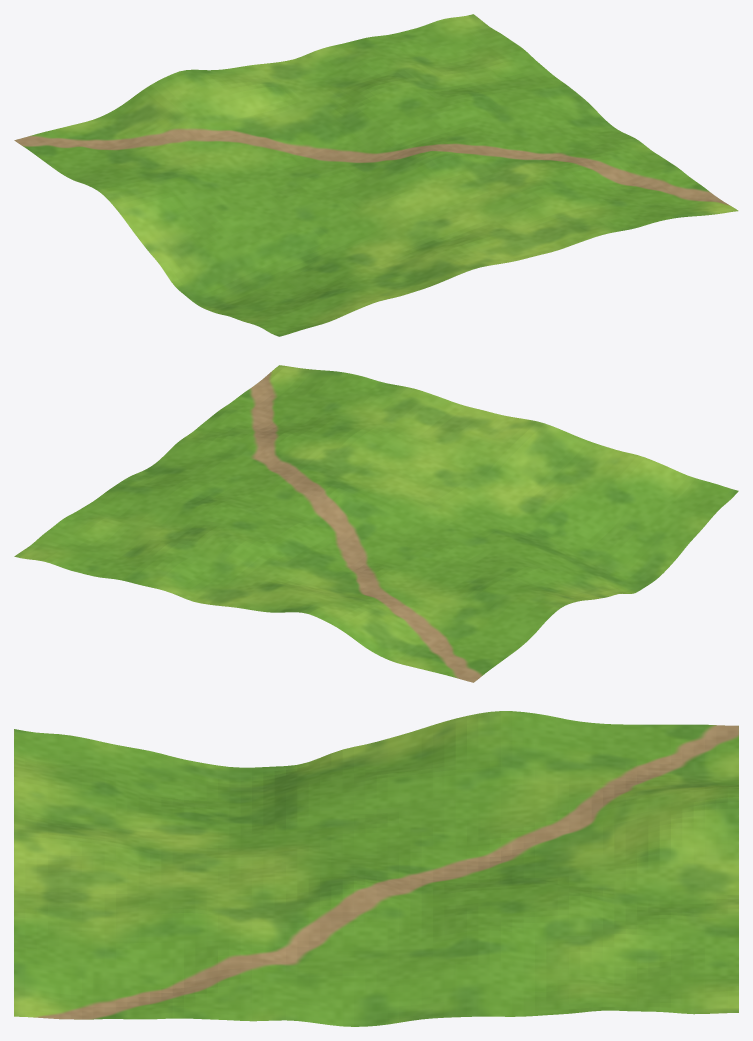
File: chunk_1_0.fbx
3 renders of one model, top to bottom at view 1: azimuth 30°, elevation 25°; view 2: azimuth 150°, elevation 25°; view 3: azimuth 270°, elevation 25°, orthographic. The views are drawn at different scales.
Parts seen in each view (by area): view 1: chunk_1_0; view 2: chunk_1_0; view 3: chunk_1_0.
Part boxes in pixels (box(x1,y1,x2,y2)): chunk_1_0: box(14, 14, 738, 336); chunk_1_0: box(14, 365, 738, 682); chunk_1_0: box(14, 711, 738, 1026).
Bounding box in the file's own units: 6400 × 6400 × 788.
Materials: 1 (1 with a texture image).
